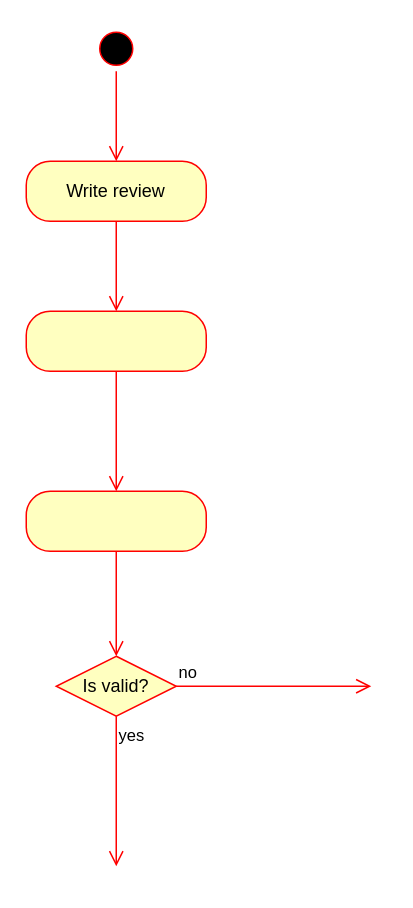
This 413x908 diagram has some shape labels left out. Each missing label, with the centre of its shape:
Controll text: point 115,520
Send in review: point 115,340
